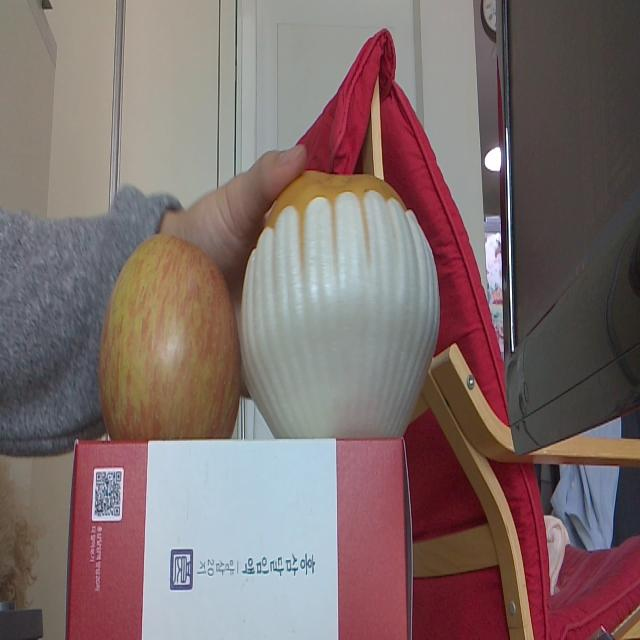apple: (98, 238, 241, 439)
pear: (242, 165, 442, 439)
